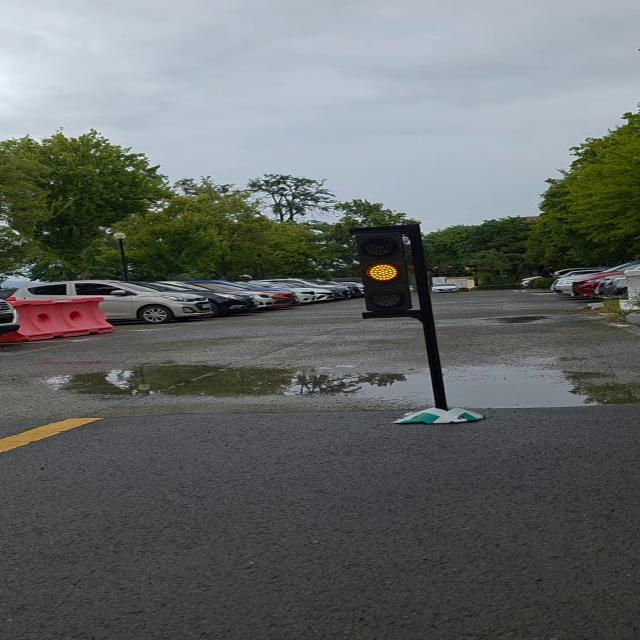yellow: (347, 224, 425, 322)
